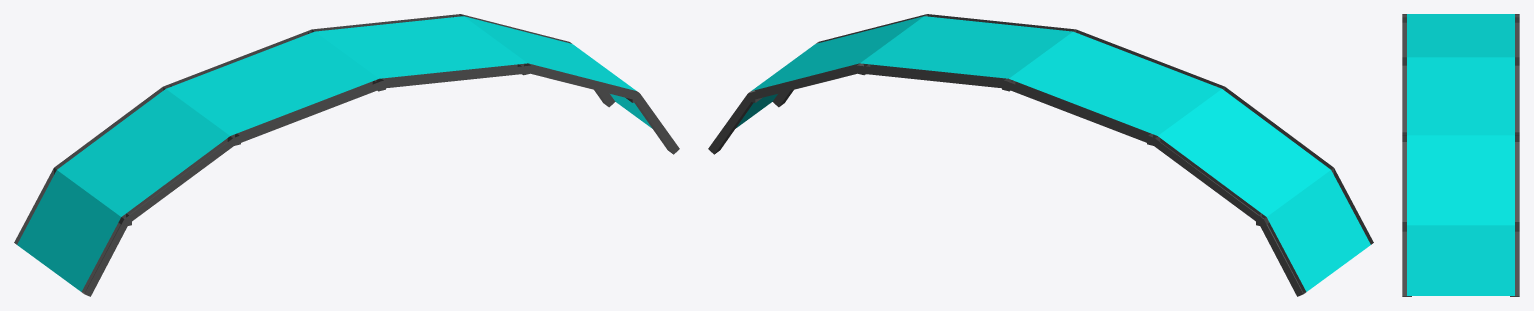
The model's file is roof.fbx.
3 renders of one model, left to right at view 1: azimuth 30°, elevation 25°; view 2: azimuth 150°, elevation 25°; view 3: azimuth 270°, elevation 25°, orthographic. The views are drawn at different scales.
Visible parts, largest first — view 1: panel17, panel13, panel18, panel9, panel14, panel7, panel21, panel22, panel10, panel12, panel15, panel16 (+9 smaller); view 2: panel18, panel13, panel17, panel7, panel9, panel14, panel21, panel22, panel10, panel12, panel16, panel15 (+9 smaller); view 3: panel11, panel19, panel20, panel10, panel21, panel22, panel6, panel8, panel23, panel13, panel17, panel18 (+6 smaller).
Part boxes in pixels (x1,y1,x2,y2): panel17: (209, 63, 378, 135); panel13: (187, 47, 356, 119); panel18: (166, 31, 335, 104); panel9: (78, 104, 208, 200); panel14: (100, 120, 229, 216); panel7: (57, 89, 186, 185); panel21: (358, 47, 527, 78); panel22: (315, 16, 484, 47); panel10: (336, 32, 505, 62); panel12: (38, 186, 99, 275); panel15: (60, 201, 120, 291); panel16: (17, 170, 77, 260); panel18: (1009, 63, 1178, 135); panel13: (1031, 47, 1200, 119); panel17: (1052, 31, 1221, 104); panel7: (1158, 120, 1287, 216); panel9: (1179, 104, 1309, 200); panel14: (1201, 89, 1330, 185); panel21: (903, 16, 1072, 47); panel22: (860, 47, 1029, 78); panel10: (882, 32, 1051, 62); panel12: (1288, 186, 1349, 275); panel16: (1267, 201, 1327, 291); panel15: (1310, 170, 1370, 260); panel11: (1443, 135, 1478, 225); panel19: (1407, 135, 1442, 225); panel20: (1479, 135, 1514, 225); panel10: (1443, 57, 1478, 135); panel21: (1407, 57, 1442, 135); panel22: (1479, 57, 1514, 135); panel6: (1407, 225, 1442, 295); panel8: (1443, 225, 1478, 295); panel23: (1479, 225, 1514, 295); panel13: (1443, 14, 1478, 57); panel17: (1407, 14, 1442, 57); panel18: (1479, 14, 1514, 57).
Bounding box in the file's own units: 16 × 3.72 × 3.28.
